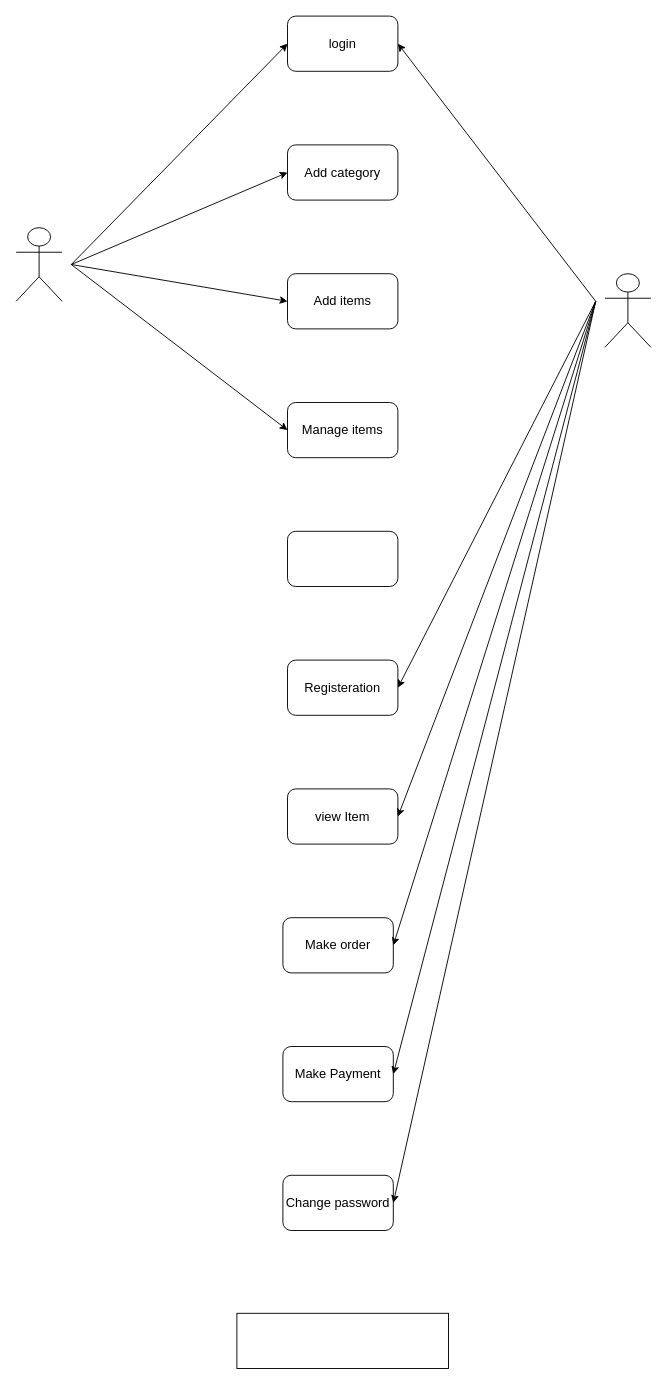
Image size: 667x1386. Some labels were removed from this diagram. Here are the shapes that lost their labels. From the top down, the box of each, then its label:
(15, 227, 62, 301): Admin
(604, 273, 651, 347): User
(287, 530, 398, 586): Manage order
(236, 1312, 448, 1368): use case diagram
